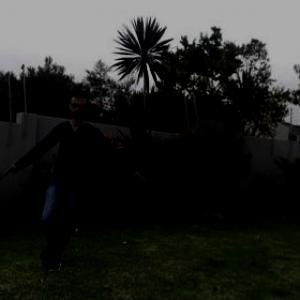land: (17, 94, 150, 257)
